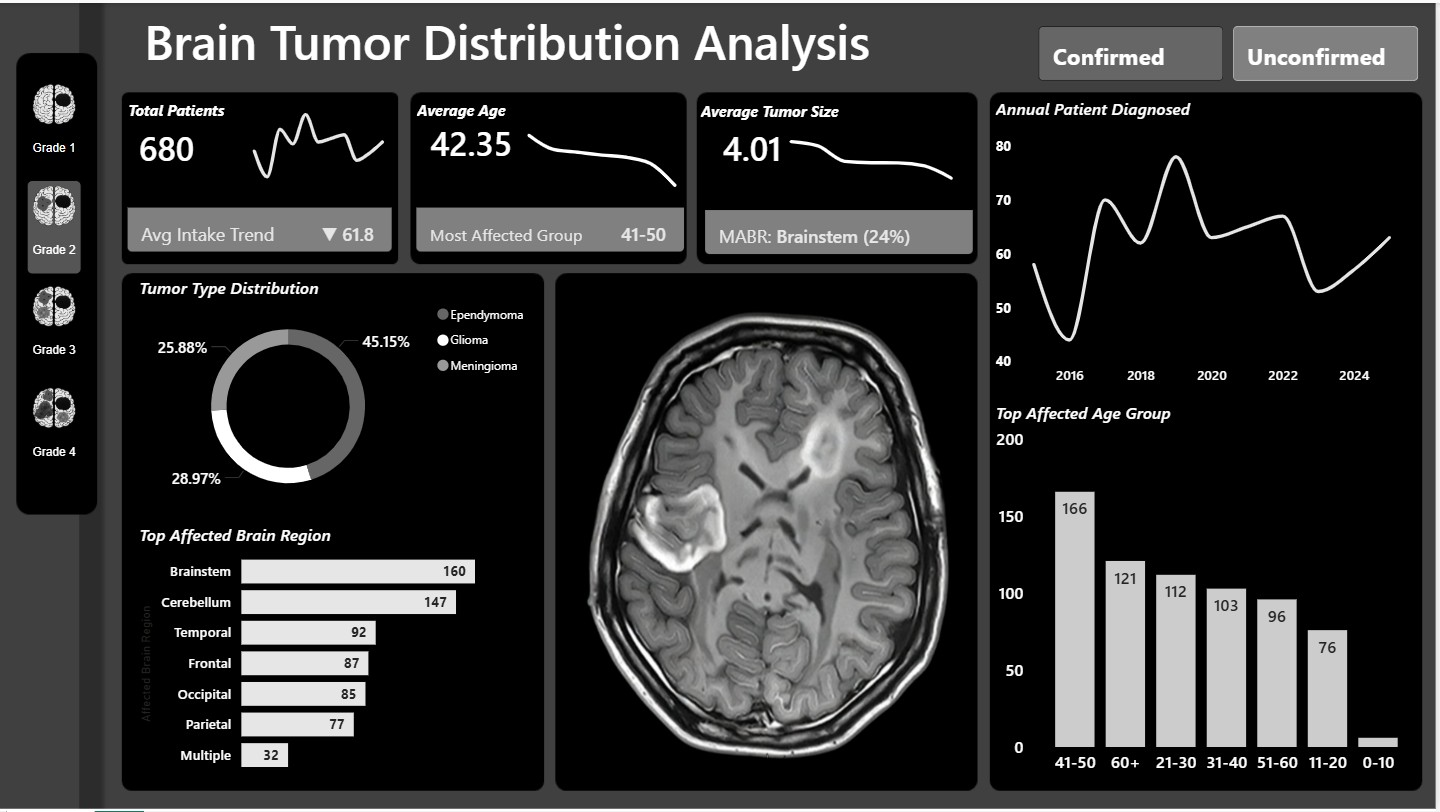

The page's visual inventory and layout, read from the dashboard file:
{"tool":"powerbi","page":{"name":"BTDA","canvas":[1280,720],"ordinal":0},"visuals":[{"type":"cardVisual","fields":{"Data":["Count(Brain Tumor Data.Patient ID)"]},"box":[96.1,79.6,155.1,96.1],"z":0},{"type":"lineChart","fields":{"Category":["Brain Tumor Data.Date of Diagnosis.Variation.Date Hierarchy.Year"],"Y":["CountNonNull(Brain Tumor Data.Patient ID)"]},"box":[212.7,82.3,144.1,85.1],"z":1000},{"type":"cardVisual","fields":{"Data":["Count(Brain Tumor Data.Patient ID)"]},"box":[86,90.7,293,160.5],"z":2000},{"type":"textbox","box":[109.8,81,166,32.9],"z":3000},{"type":"cardVisual","fields":{"Data":["Avg(Brain Tumor Data.Age)"]},"box":[355.4,74.1,149.6,96.1],"z":4000},{"type":"textbox","box":[367.8,81,102.9,34.3],"z":5000},{"type":"cardVisual","fields":{"Data":["Count(Brain Tumor Data.Patient ID)"]},"box":[343.1,90.6,296.4,160.5],"z":6000},{"type":"lineChart","fields":{"Y":["CountNonNull(Brain Tumor Data.Patient ID)"],"Category":["Brain Tumor Data.Age Group"]},"box":[458.6,94.3,157.1,75.7],"z":7000},{"type":"cardVisual","fields":{"Data":["Count(Brain Tumor Data.Patient ID)"]},"box":[599.7,91.9,296.4,160.5],"z":8000},{"type":"cardVisual","fields":{"Data":["Avg(Brain Tumor Data.Tumor Size (cm))"]},"box":[615.7,85.7,121.4,84.3],"z":9000},{"type":"textbox","box":[620,82.9,142.9,32.9],"z":10000},{"type":"lineChart","fields":{"Category":["Brain Tumor Data.Affected Brain Region"],"Y":["Sum(Brain Tumor Data.Tumor Size (cm))"]},"box":[691.4,100,171.4,70],"z":11000},{"type":"advancedSlicerVisual","fields":{"Values":["Brain Tumor Data.Histology Confirmation"]},"box":[920.8,15.1,348.5,59],"z":12000},{"type":"ChicletSlicer1448559807354","fields":{"Category":["Tumor Images.Tumor Grade"],"Image":["Tumor Images.Icon URL"]},"box":[16.7,60.1,70.1,399.6],"z":13000},{"type":"imageDB603108E3FF4EBFB8047F5653368E8C","fields":{"imageUrl":["Tumor Images.Image URL"]},"box":[500.9,245.6,371.9,451.5],"z":14000},{"type":"donutChart","fields":{"Category":["Brain Tumor Data.Tumor Type"],"Y":["CountNonNull(Brain Tumor Data.Patient ID)"]},"box":[120.8,260.7,360.9,197.6],"z":15000},{"type":"textbox","box":[120.8,238.8,199,32.9],"z":16000},{"type":"clusteredBarChart","fields":{"Category":["Brain Tumor Data.Affected Brain Region"],"Y":["CountNonNull(Brain Tumor Data.Patient ID)"]},"box":[120.8,472,360.9,225],"z":17000},{"type":"textbox","box":[120.8,458.3,203.1,39.8],"z":18000},{"type":"lineChart","fields":{"Category":["Brain Tumor Data.Date of Diagnosis.Variation.Date Hierarchy.Year"],"Y":["CountNonNull(Brain Tumor Data.Patient ID)"]},"box":[882.3,113.9,374.6,236],"z":19000},{"type":"textbox","box":[882.3,79.6,200.3,38.4],"z":20000},{"type":"clusteredColumnChart","fields":{"Y":["CountNonNull(Brain Tumor Data.Patient ID)"],"Category":["Brain Tumor Data.Age Group"]},"box":[882.3,373.2,387,323.8],"z":21000},{"type":"textbox","box":[882.3,349.9,200.3,34.3],"z":22000},{"type":"textbox","box":[124.9,0,784.9,75.5],"z":23000}]}

Visuals, with their boxes in screenshot pixels (x1, y1, x2, y2), scaled from the page's 1280x720 canvas onto the 1440x812 screenshot:
cardVisual - Count(Brain Tumor Data.Patient ID): left=108, top=90, right=283, bottom=198
lineChart - Brain Tumor Data.Date of Diagnosis.Variation.Date Hierarchy.Year x CountNonNull(Brain Tumor Data.Patient ID): left=239, top=93, right=401, bottom=189
cardVisual - Count(Brain Tumor Data.Patient ID): left=97, top=102, right=426, bottom=283
textbox: left=124, top=91, right=310, bottom=128
cardVisual - Avg(Brain Tumor Data.Age): left=400, top=84, right=568, bottom=192
textbox: left=414, top=91, right=530, bottom=130
cardVisual - Count(Brain Tumor Data.Patient ID): left=386, top=102, right=719, bottom=283
lineChart - CountNonNull(Brain Tumor Data.Patient ID) x Brain Tumor Data.Age Group: left=516, top=106, right=693, bottom=192
cardVisual - Count(Brain Tumor Data.Patient ID): left=675, top=104, right=1008, bottom=285
cardVisual - Avg(Brain Tumor Data.Tumor Size (cm)): left=693, top=97, right=829, bottom=192
textbox: left=698, top=93, right=858, bottom=131
lineChart - Brain Tumor Data.Affected Brain Region x Sum(Brain Tumor Data.Tumor Size (cm)): left=778, top=113, right=971, bottom=192
advancedSlicerVisual - Brain Tumor Data.Histology Confirmation: left=1036, top=17, right=1428, bottom=84
ChicletSlicer1448559807354 - Tumor Images.Tumor Grade x Tumor Images.Icon URL: left=19, top=68, right=98, bottom=518
imageDB603108E3FF4EBFB8047F5653368E8C - Tumor Images.Image URL: left=564, top=277, right=982, bottom=786
donutChart - Brain Tumor Data.Tumor Type x CountNonNull(Brain Tumor Data.Patient ID): left=136, top=294, right=542, bottom=517
textbox: left=136, top=269, right=360, bottom=306
clusteredBarChart - Brain Tumor Data.Affected Brain Region x CountNonNull(Brain Tumor Data.Patient ID): left=136, top=532, right=542, bottom=786
textbox: left=136, top=517, right=364, bottom=562
lineChart - Brain Tumor Data.Date of Diagnosis.Variation.Date Hierarchy.Year x CountNonNull(Brain Tumor Data.Patient ID): left=993, top=128, right=1414, bottom=395
textbox: left=993, top=90, right=1218, bottom=133
clusteredColumnChart - CountNonNull(Brain Tumor Data.Patient ID) x Brain Tumor Data.Age Group: left=993, top=421, right=1428, bottom=786
textbox: left=993, top=395, right=1218, bottom=433
textbox: left=141, top=0, right=1024, bottom=85
